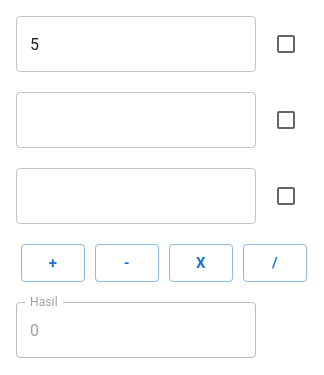
Divided operation › action divide 3 number but not check field 3
This screenshot has width=324, height=375.
Replace the text in the number field named "numbers0" with "10" at coordinates (136, 44), box [16,16,256,72]
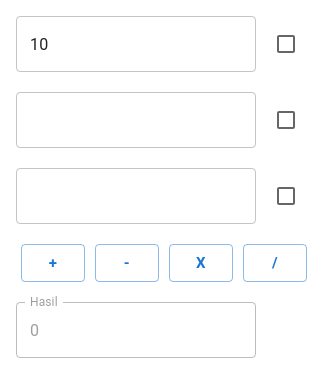
Type "2" into the number field named "numbers1" at coordinates (136, 120), box [16,92,256,148]
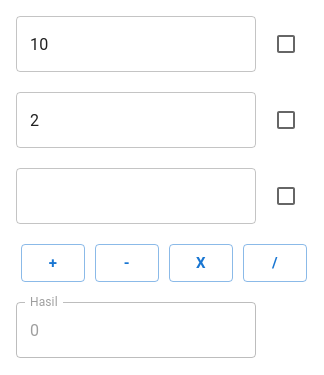
Type "5" into the number field named "numbers2" at coordinates (136, 196), box [16,168,256,224]
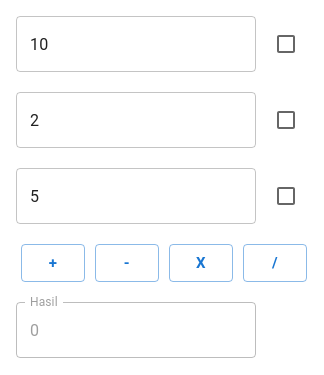
Click the checkbox named "checks0" at coordinates (286, 44), box [274,32,298,56]
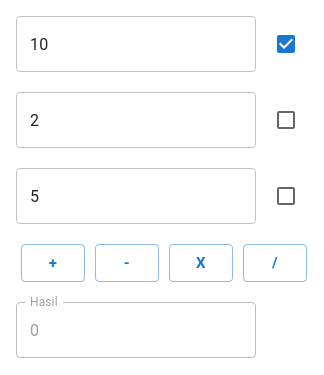
Click the checkbox named "checks1" at coordinates (286, 120), box [274,108,298,132]
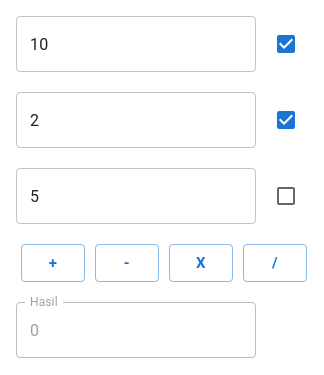
Click the button named "button-distribute" at coordinates (275, 263), box [243,244,307,282]
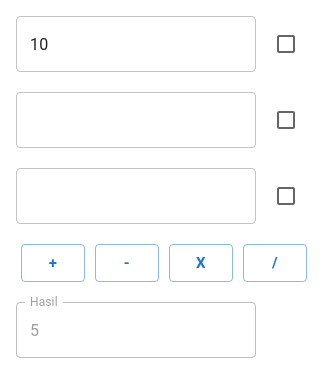
Expected: the field named "result" holds "5", [16,302,256,358]
